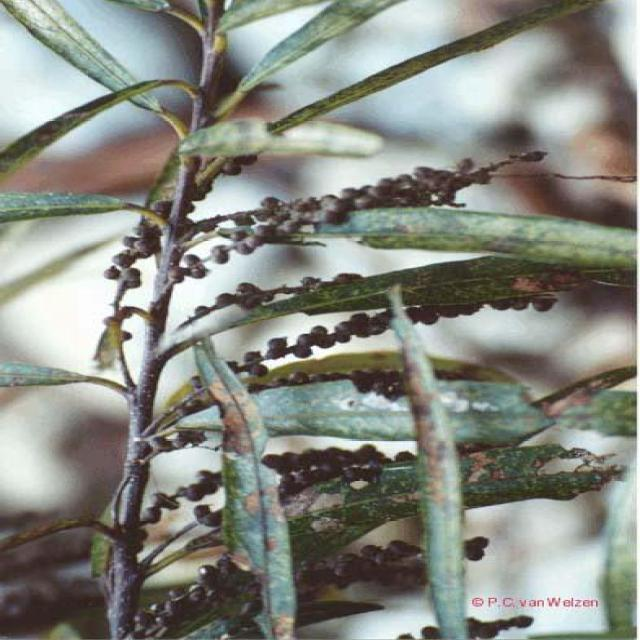BlackScale: (171, 152, 546, 284), (92, 156, 255, 390), (176, 272, 363, 340), (236, 310, 388, 376), (262, 444, 413, 504), (300, 540, 425, 602), (140, 470, 220, 550), (251, 371, 407, 410), (407, 295, 557, 324)
